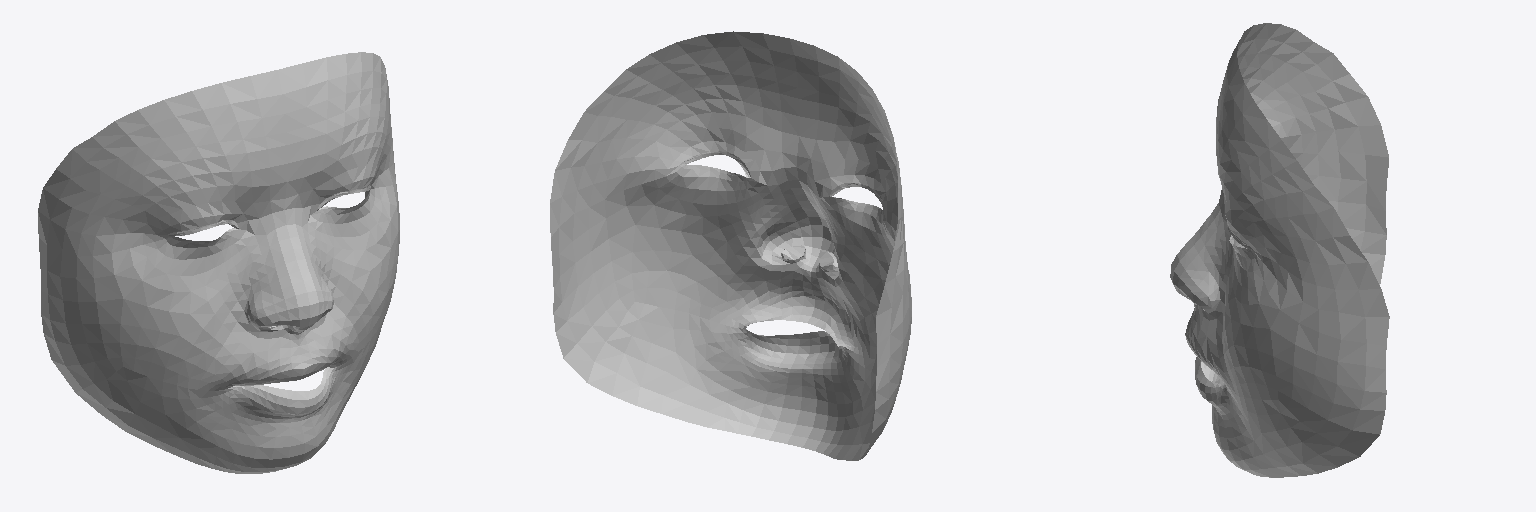
The model's file is mouthLowerDown_L.obj.
The picture shows the model from 3 angles: view 1: azimuth 30°, elevation 25°; view 2: azimuth 150°, elevation 25°; view 3: azimuth 270°, elevation 25°; orthographic projection.
Parts seen in each view (by area): view 1: default; view 2: default; view 3: default.
Boxes of the visible parts, <box> form: default: <box>38,52,399,473</box>; default: <box>550,31,911,460</box>; default: <box>1170,23,1389,477</box>.
Bounding box in the file's own units: 0.1624 × 0.1855 × 0.0913.